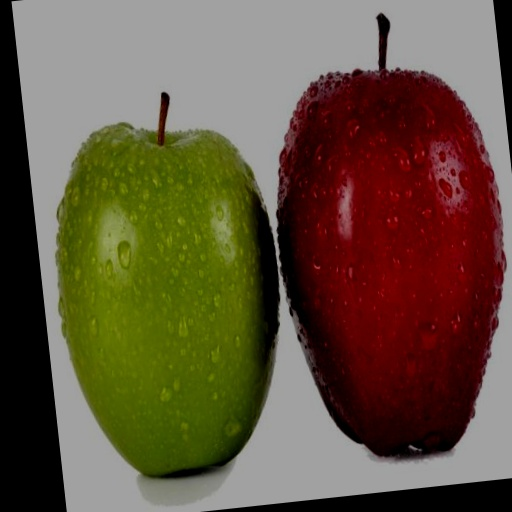fruit: (277, 15, 505, 454), (56, 95, 277, 475)
